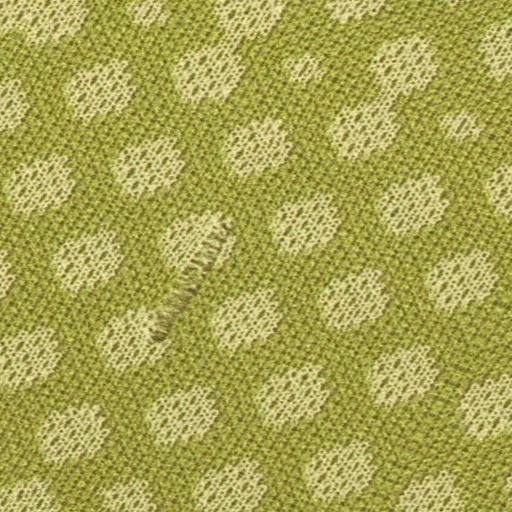slub: (141, 215, 248, 354)
